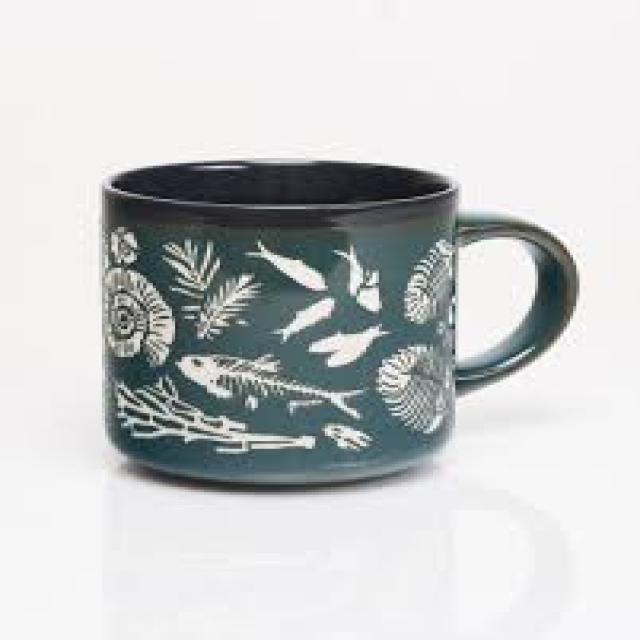taza: (100, 158, 580, 490)
